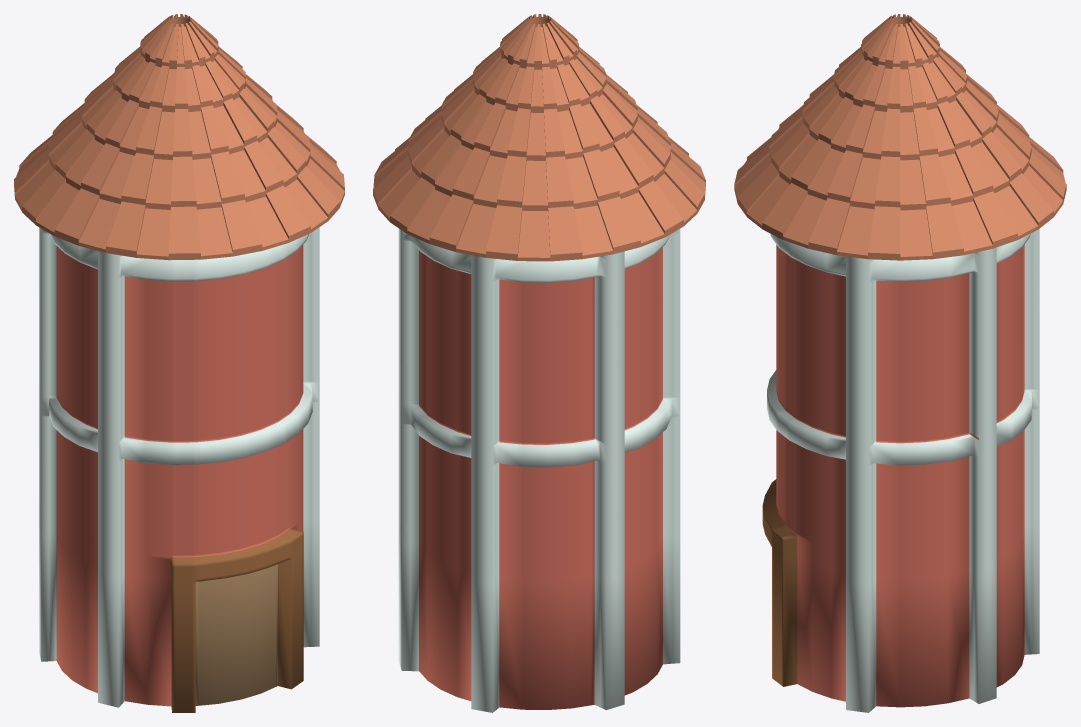
File: silo.fbx
3 renders of one model, left to right at view 1: azimuth 30°, elevation 25°; view 2: azimuth 150°, elevation 25°; view 3: azimuth 270°, elevation 25°, orthographic.
Parts seen in each view (by area): view 1: Cylindre.001, Cylindre.003; view 2: Cylindre.001, Cylindre.003; view 3: Cylindre.001, Cylindre.003.
Part boxes in pixels (x1,y1,x2,y2): Cylindre.001: (39,227,319,712); Cylindre.003: (14,14,344,260); Cylindre.001: (398,228,680,712); Cylindre.003: (373,14,705,261); Cylindre.001: (762,229,1039,712); Cylindre.003: (734,14,1066,260).
Size of the model in its own units: 620 by 1310 by 620.
